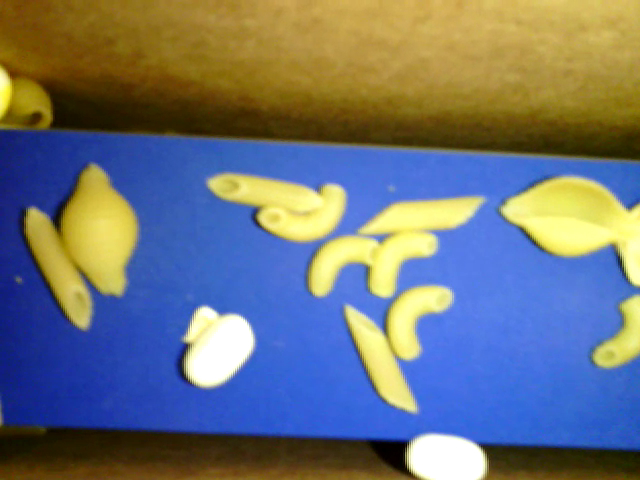elbow: (253, 177, 349, 242), (384, 284, 454, 362), (305, 233, 383, 300), (369, 229, 439, 298), (592, 294, 638, 371)
penne: (23, 207, 91, 331), (341, 306, 417, 414), (357, 194, 482, 234), (204, 172, 323, 213)
shell: (497, 170, 638, 258), (59, 163, 139, 296), (2, 75, 56, 133)
